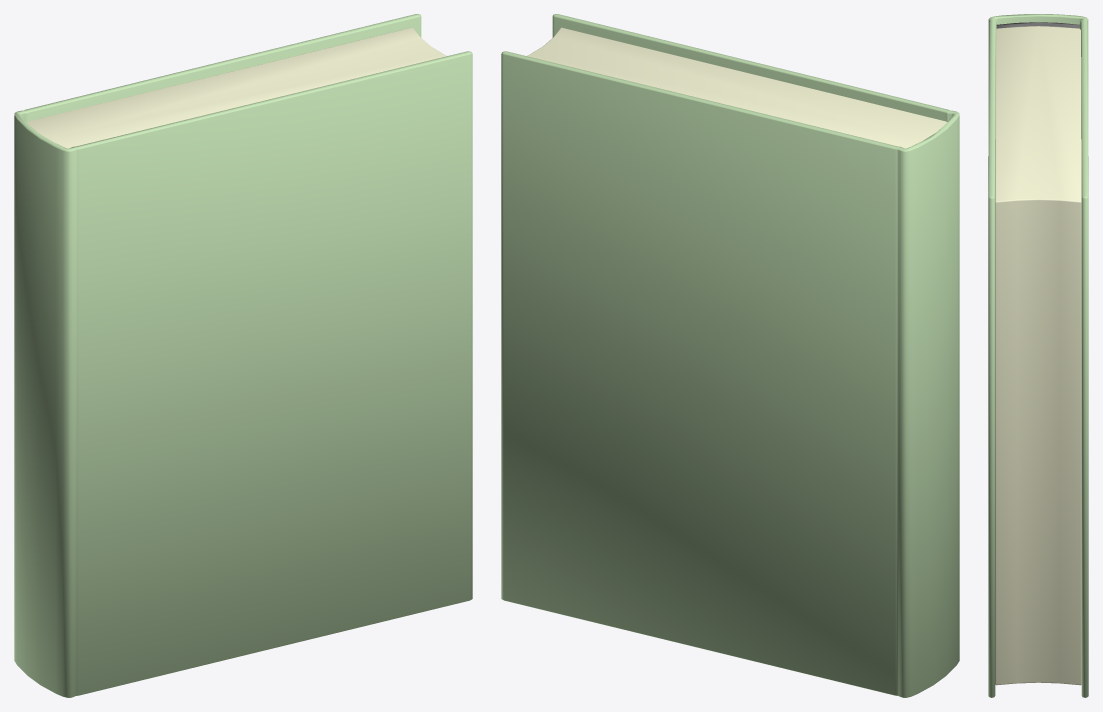
File: book.glb
3 views of the same model, side by side, from view 1: azimuth 30°, elevation 25°; view 2: azimuth 150°, elevation 25°; view 3: azimuth 270°, elevation 25° (orthographic). The views are drawn at different scales.
Visible parts, largest first — view 1: cover_cover, pages_pages; view 2: cover_cover, pages_pages; view 3: pages_pages, cover_cover, binding_binding.
Part boxes in pixels (box(x1,y1,x2,y2)): cover_cover: box(14, 14, 472, 697); pages_pages: box(26, 27, 446, 148); cover_cover: box(501, 14, 959, 697); pages_pages: box(527, 27, 947, 148); pages_pages: box(995, 26, 1081, 685); cover_cover: box(988, 14, 1088, 697); binding_binding: box(996, 22, 1080, 28).
Bounding box in the file's own units: 2.12 × 2.69 × 0.4886.
